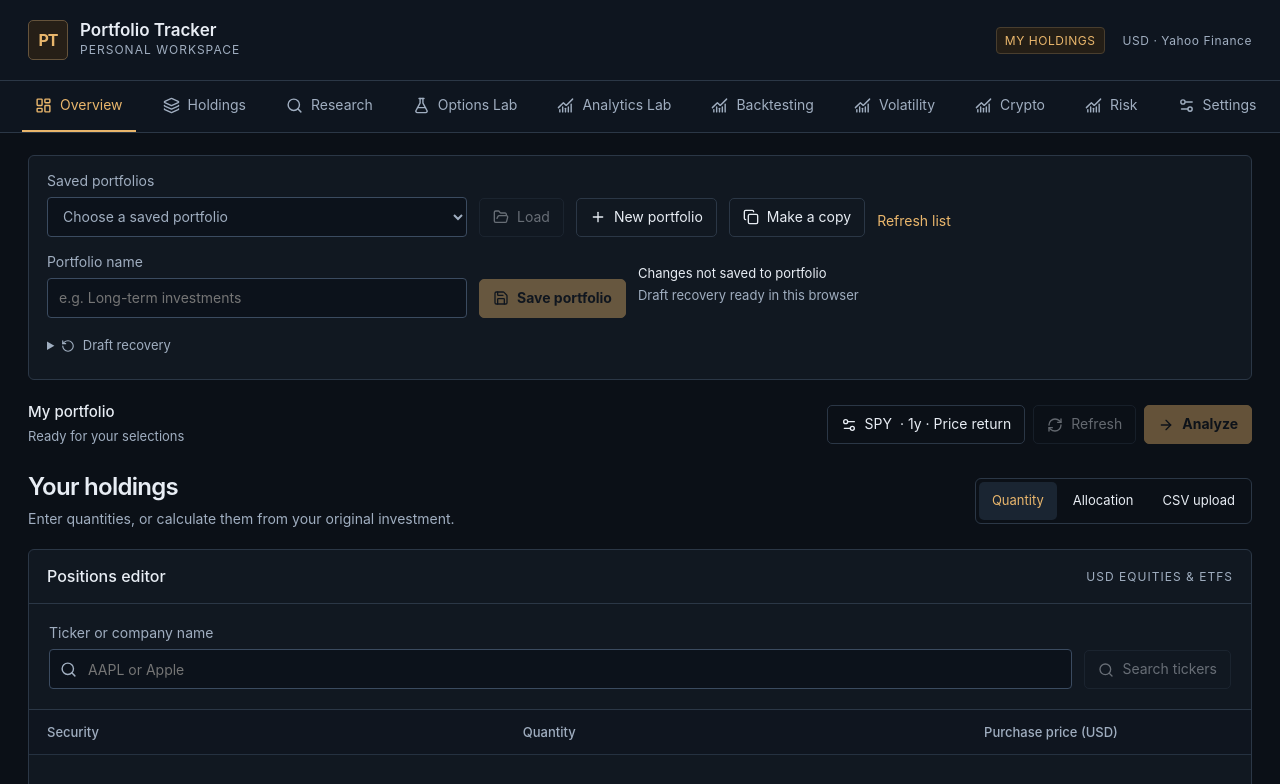
Bond Analytics › runs a fictional offline example and distinguishes price, accrued, cash and DV01
Step 1. Click the tab "Analytics Lab" → {"x": 614, "y": 106}, box [544,81,684,132]
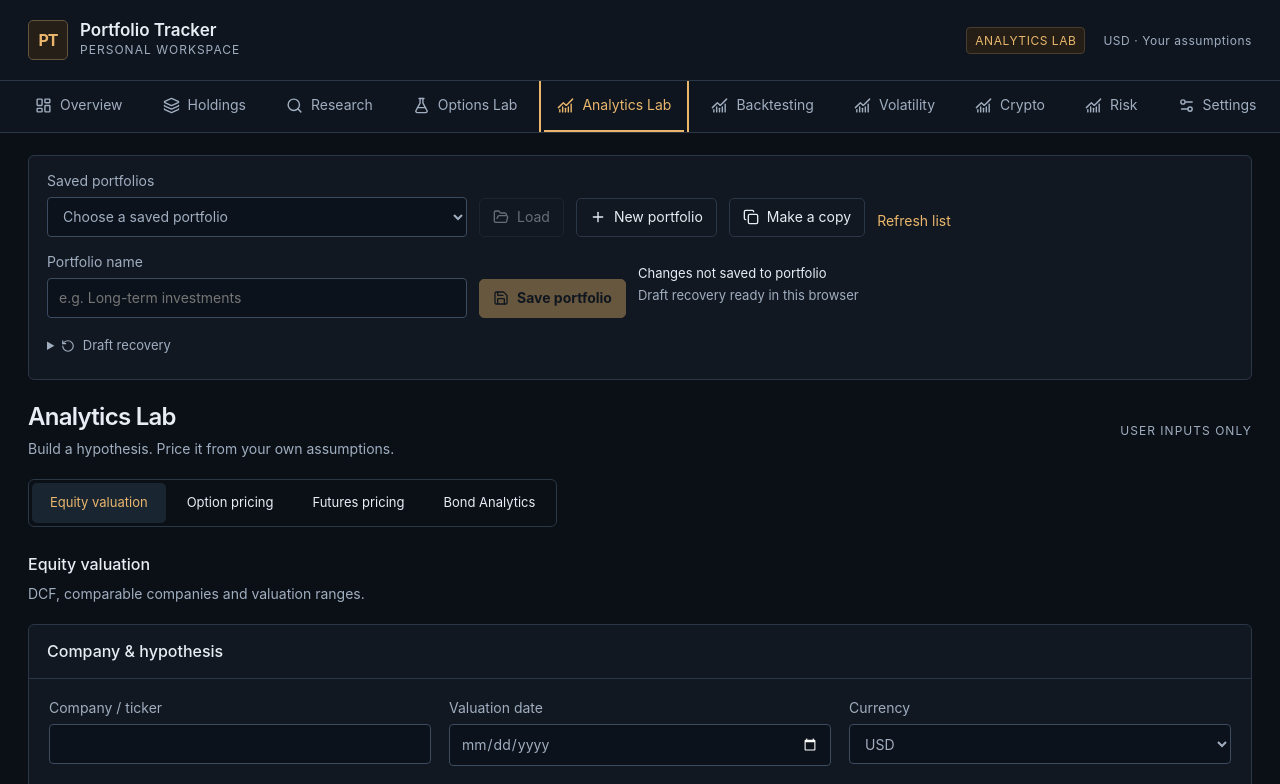
Step 2. Click the button "Bond Analytics" → {"x": 489, "y": 503}, box [425,483,553,523]
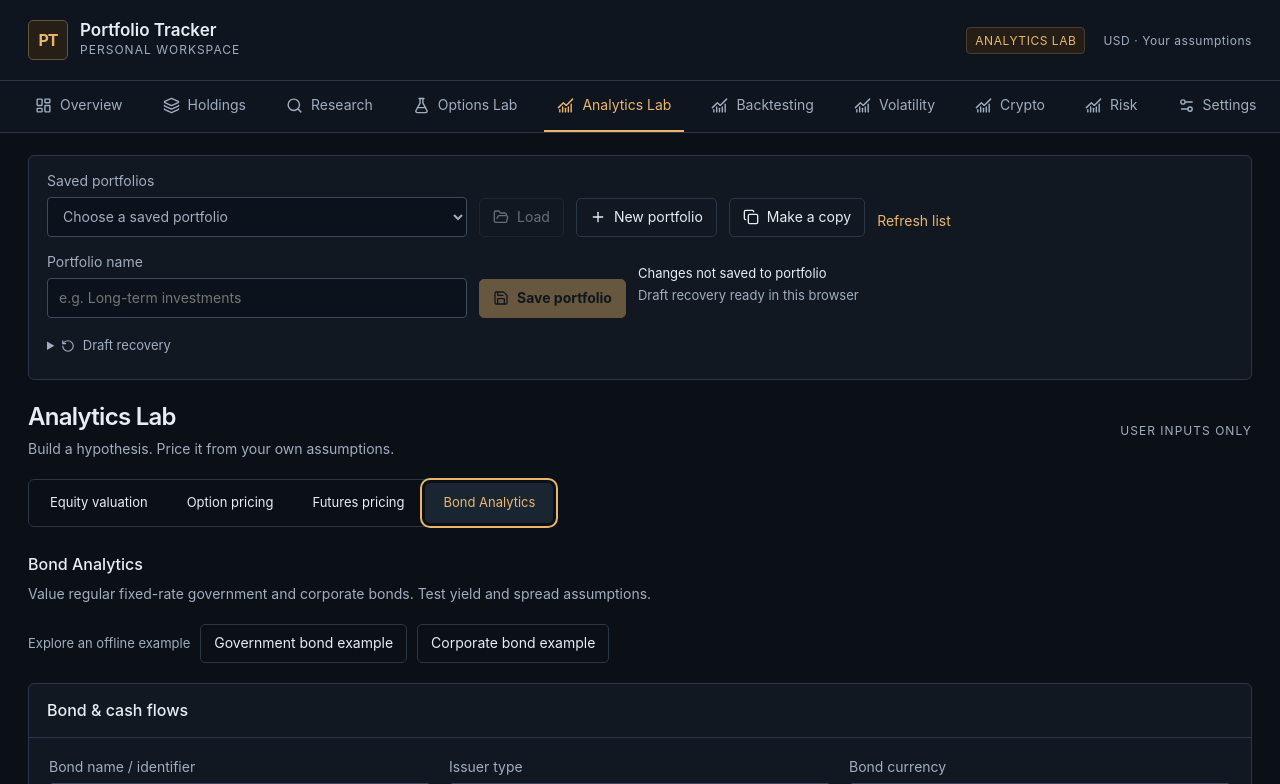
Step 3. Click the button "Government bond example" → {"x": 304, "y": 644}, box [200,624,407,663]
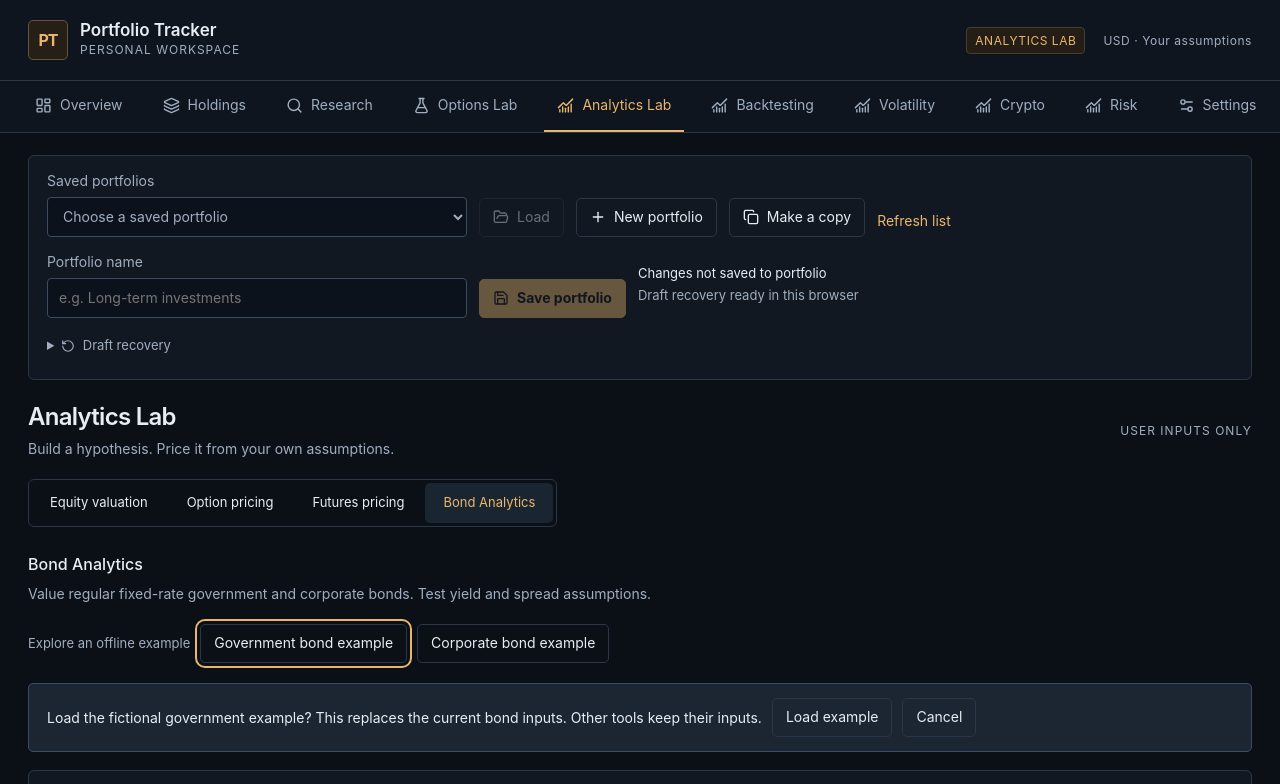
Step 4. Click the button "Load example" → {"x": 832, "y": 717}, box [772,698,892,737]
(page scrolled)
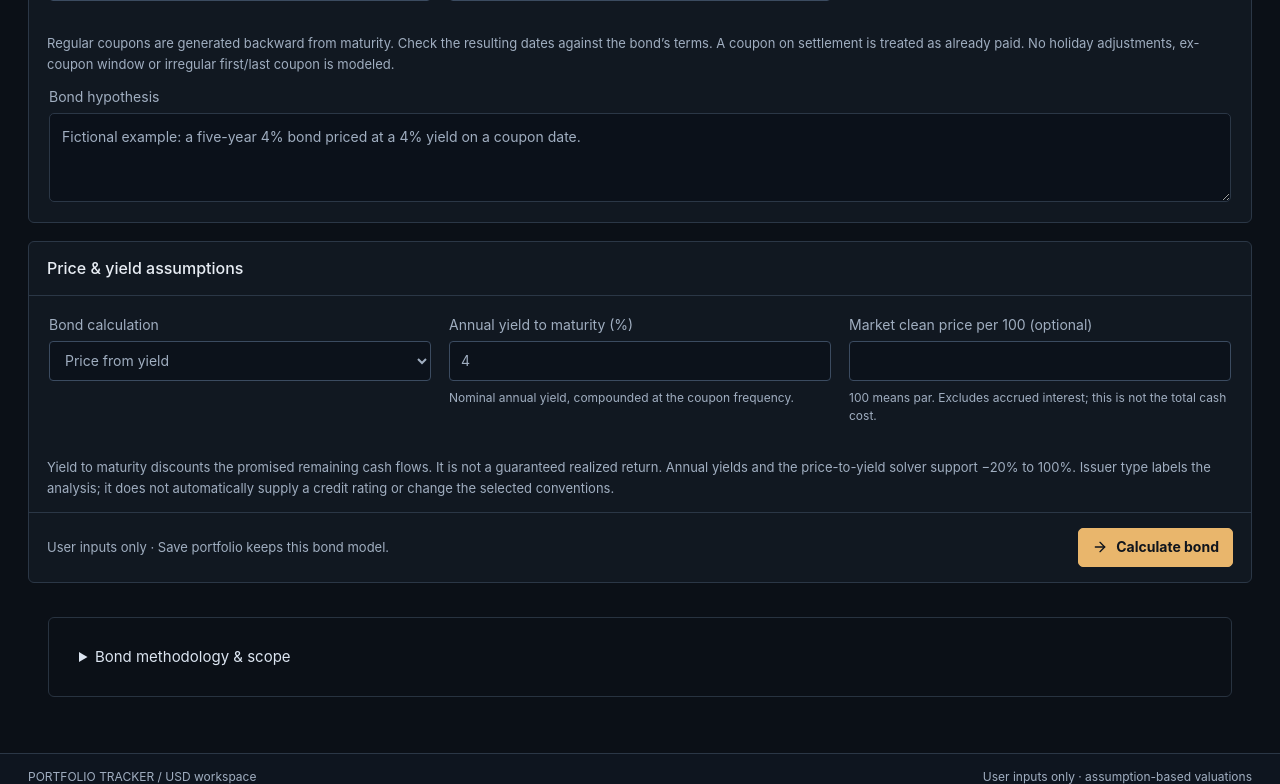
Step 5. Click the button "Calculate bond" → {"x": 1156, "y": 547}, box [1078,528,1233,567]
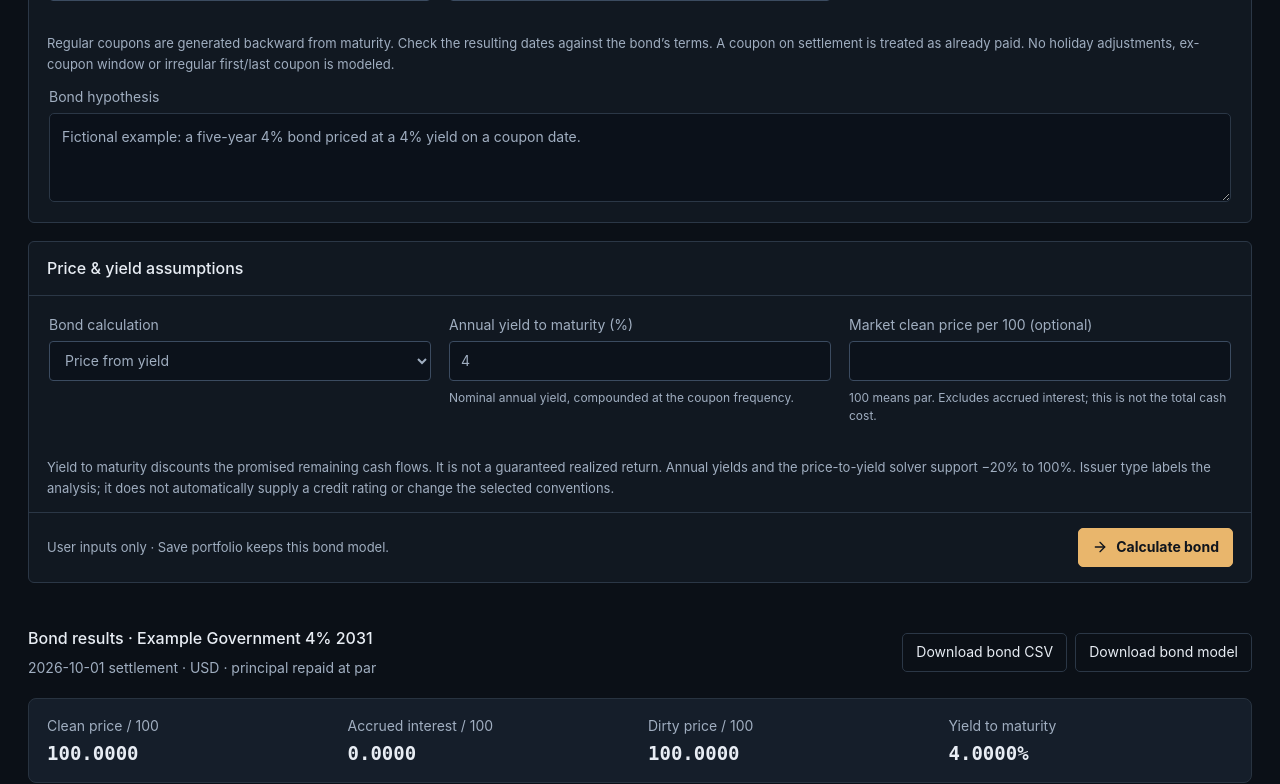
Expected: the text "100.0000" is shown 2 times, [47,742,138,764]; [648,742,740,764]
Expected: the text "0.0000" is shown, [348,742,416,764]
Step 6. Replace the text in the number field labelled "Annual yield to maturity (%)" with "5" → {"x": 640, "y": 361}, box [449,341,831,381]
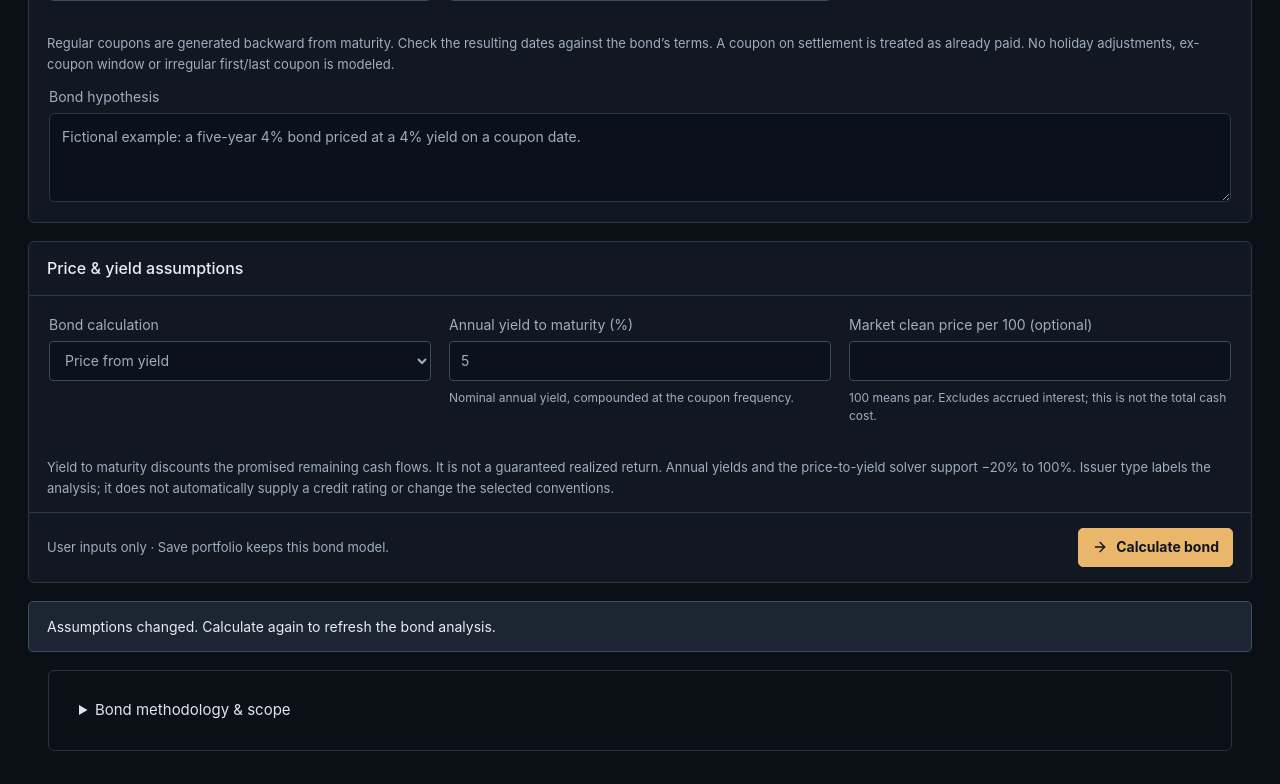
Expected: the text "Assumptions changed" is shown, [47,618,496,635]
